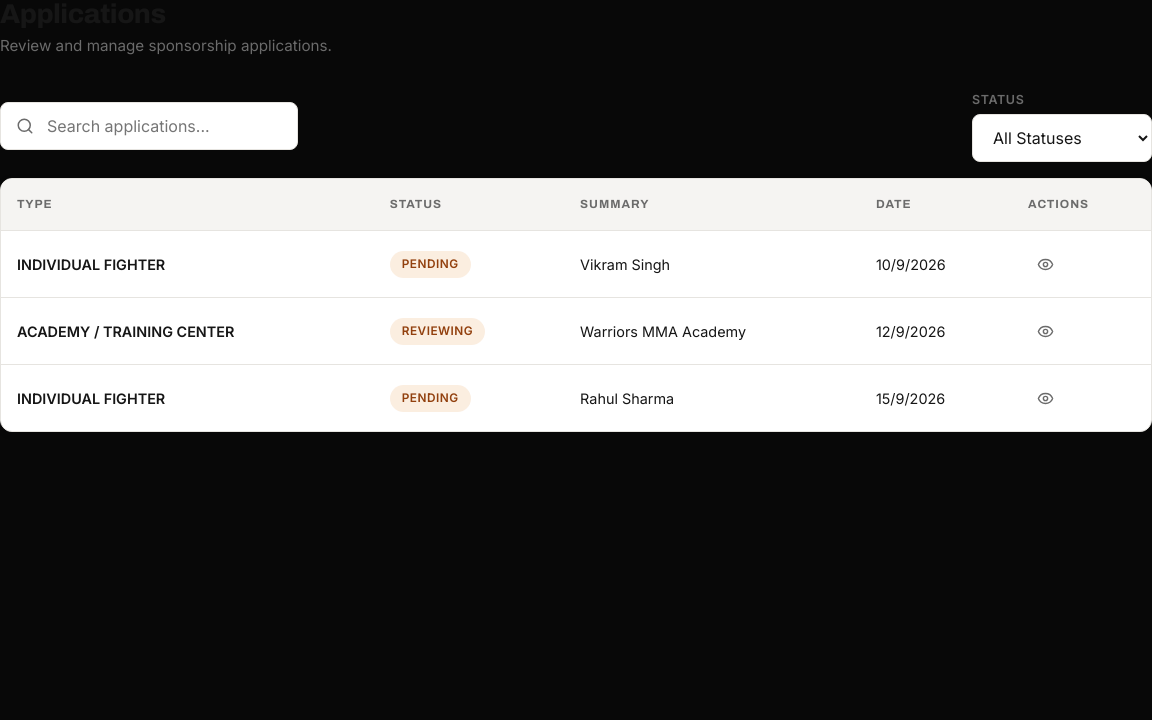
Test case: AdminApplications supporting documents detail › renders the full athlete application grouped by section
// Open detail for Vikram Singh
What coordinates should you click on to do the following:
click the text "Vikram Singh"
I would click on:
 (712, 264)
Its box is [564,231,860,298].
(page scrolled)
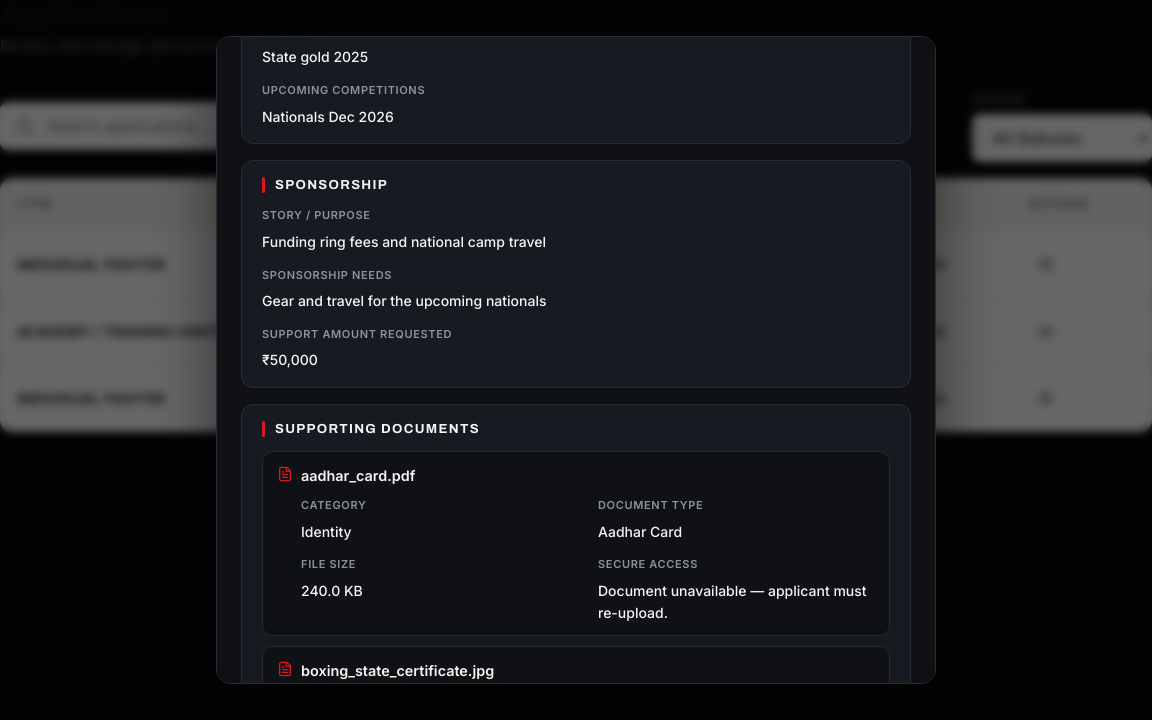
Expected: the heading "Sponsorship" is shown, [275,177,388,192]
Expected: the heading "Supporting Documents" is shown, [275,421,480,436]
Expected: the text "State gold 2025" is shown, [262,48,368,65]
